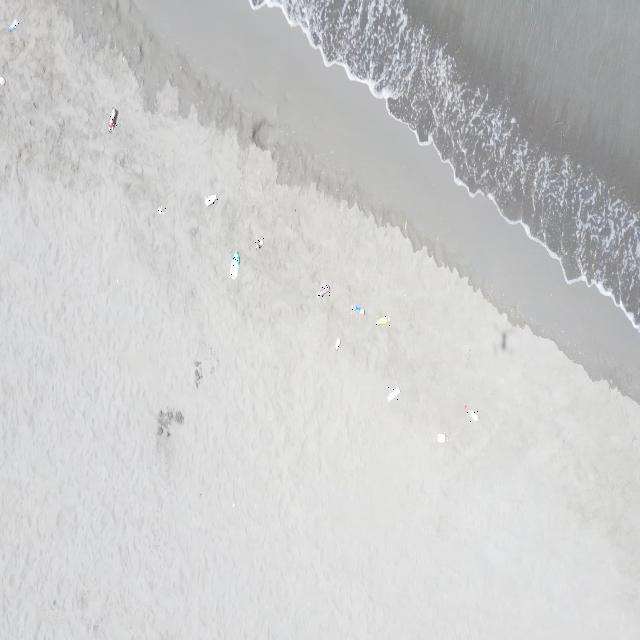plastic-bottle: (230, 250, 240, 280), (464, 405, 480, 423), (108, 108, 118, 132), (387, 386, 401, 402), (316, 283, 330, 299), (205, 194, 218, 207), (351, 304, 365, 315), (437, 432, 449, 444), (376, 316, 390, 326), (9, 18, 19, 31), (334, 337, 342, 351), (255, 238, 264, 250), (157, 206, 166, 217), (0, 73, 6, 86)
